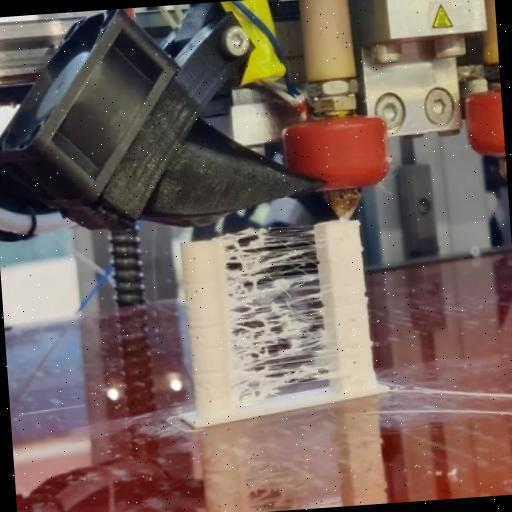stringing: (206, 216, 344, 412)
